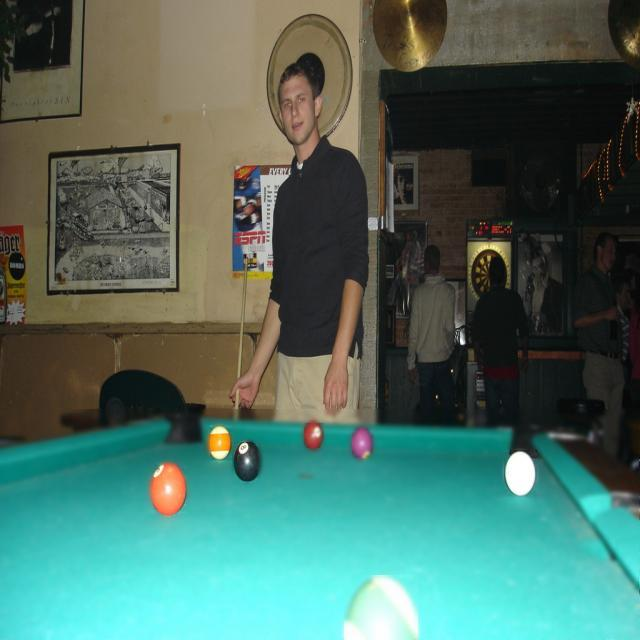Ball: (344, 576, 418, 640), (151, 465, 187, 517), (504, 451, 537, 498), (234, 442, 258, 483), (210, 425, 232, 463), (352, 428, 373, 458), (304, 423, 324, 448)
Billiard table: (0, 409, 639, 639)
